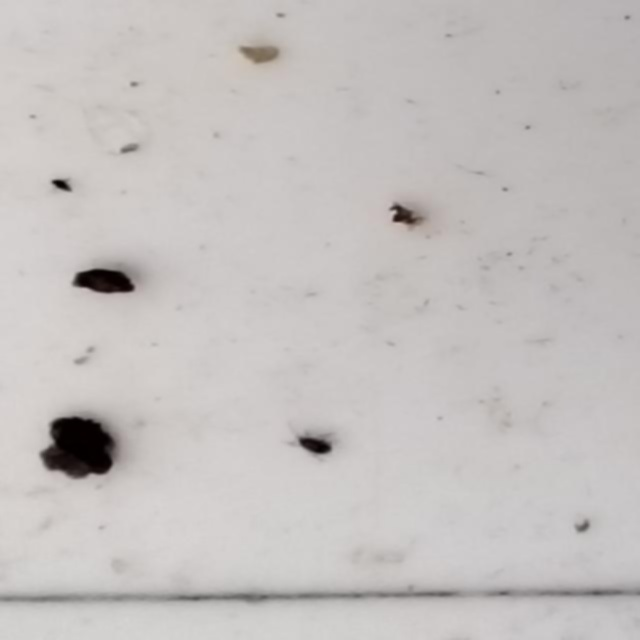varroa: (42, 416, 116, 454), (37, 449, 117, 477), (70, 270, 134, 298)
